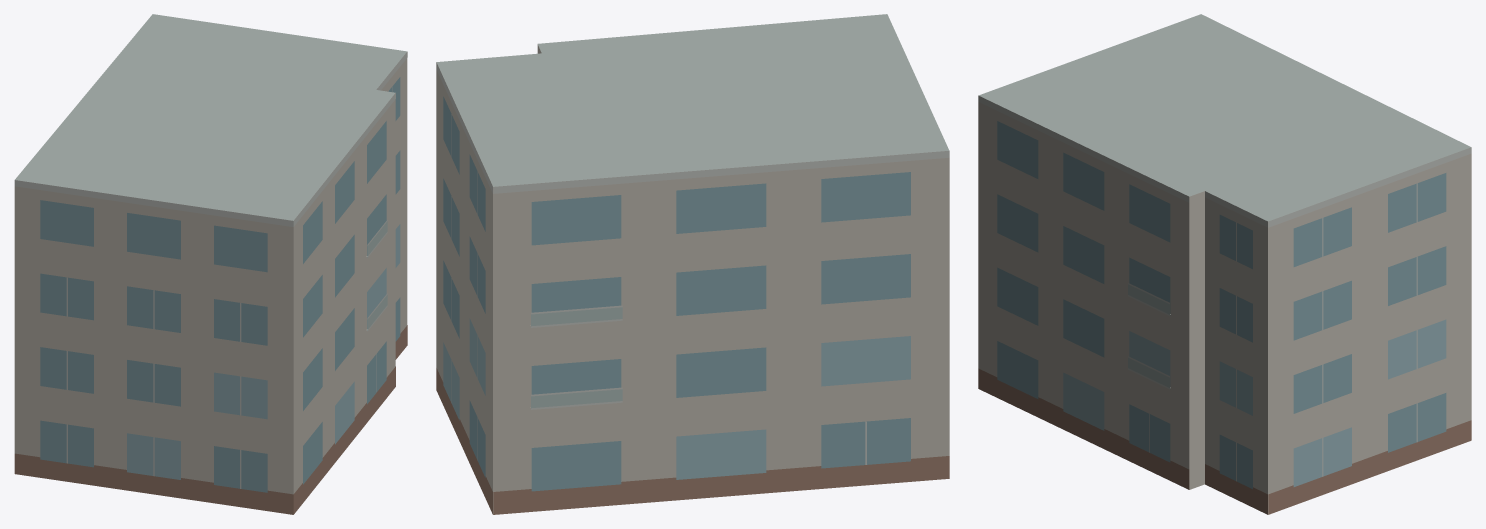
The model's file is survey-upis-32524484.glb.
3 renders of one model, left to right at view 1: azimuth 30°, elevation 25°; view 2: azimuth 150°, elevation 25°; view 3: azimuth 270°, elevation 25°, orthographic. The views are drawn at different scales.
Visible parts, largest first — view 1: survey-upis-32524484.tmp; view 2: survey-upis-32524484.tmp; view 3: survey-upis-32524484.tmp.
Boxes of the visible parts, left/top/right/bottom form: survey-upis-32524484.tmp: left=14, top=14, right=407, bottom=514; survey-upis-32524484.tmp: left=436, top=14, right=949, bottom=514; survey-upis-32524484.tmp: left=978, top=14, right=1471, bottom=514.
Bounding box in the file's own units: 17.31 × 11.4 × 17.38.
